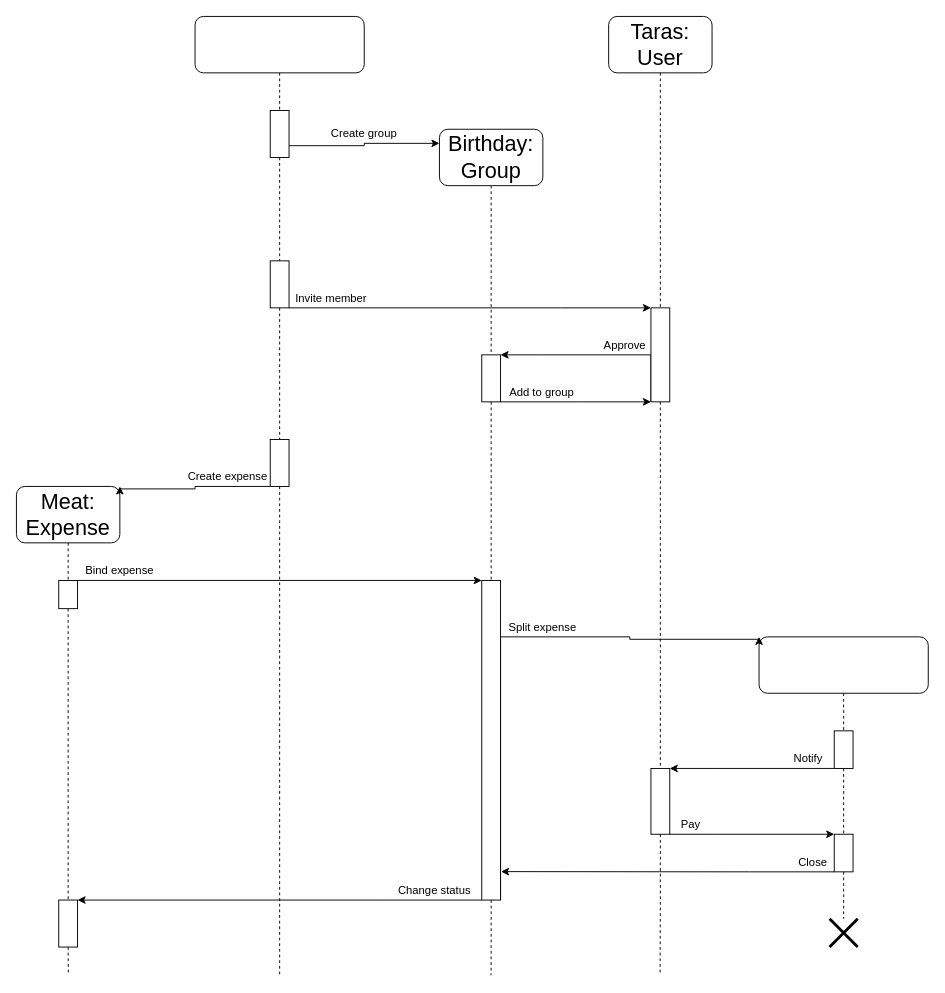
This 945x993 diagram has some shape labels left out. Each missing label, with the box of its shape:
Ivan: GroupMember: (194, 16, 364, 73)
Split1: ExpenseSplit: (758, 636, 928, 693)
